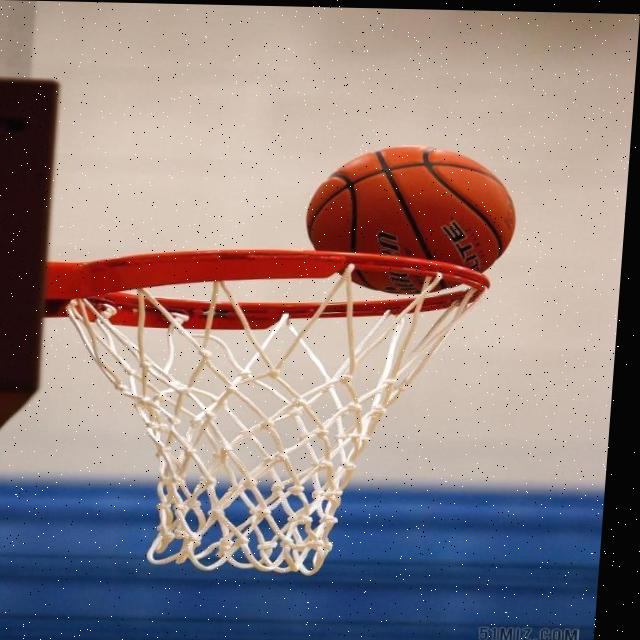rebound_hit: (299, 139, 521, 298)
